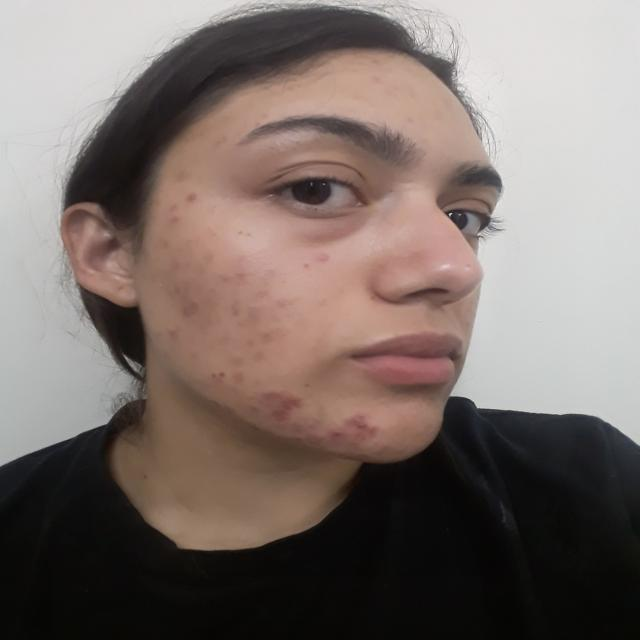Acne: (261, 391, 306, 424), (344, 411, 386, 440), (291, 418, 330, 446), (366, 436, 394, 461), (239, 390, 265, 415), (164, 284, 197, 300), (322, 426, 351, 442), (178, 302, 206, 318), (257, 331, 283, 347), (342, 437, 366, 454), (224, 302, 247, 318), (365, 70, 387, 86), (229, 268, 255, 281), (401, 111, 420, 128), (160, 324, 186, 336), (176, 167, 196, 182), (314, 251, 334, 265), (252, 352, 272, 366), (214, 272, 233, 286), (240, 334, 260, 347), (229, 354, 249, 366), (185, 192, 202, 205), (254, 288, 272, 300), (203, 253, 218, 267), (231, 372, 250, 383), (166, 260, 183, 272), (166, 215, 186, 224), (274, 298, 290, 308), (298, 262, 313, 270), (166, 203, 180, 209)
